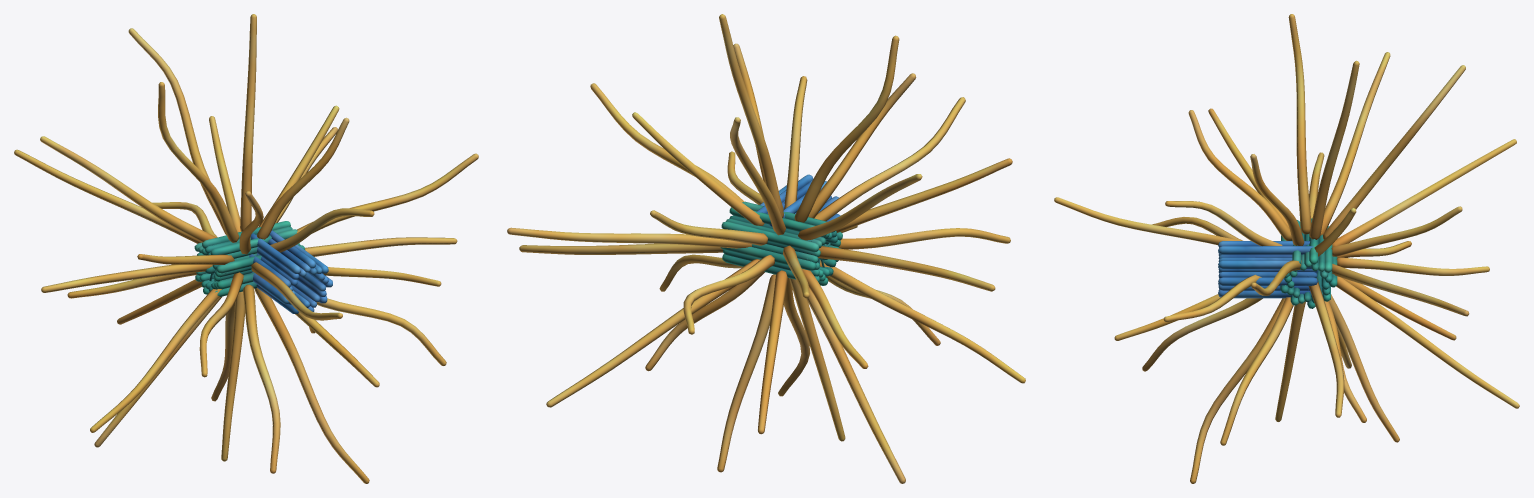
File: spindle-pole.glb
The picture shows the model from 3 angles, left to right: view 1: azimuth 30°, elevation 25°; view 2: azimuth 150°, elevation 25°; view 3: azimuth 270°, elevation 25°; orthographic projection. The views are drawn at different scales.
Visible parts, largest first — view 1: spindle-pole-aster, spindle-pole-daughter, spindle-pole-mother; view 2: spindle-pole-aster, spindle-pole-mother, spindle-pole-daughter; view 3: spindle-pole-aster, spindle-pole-daughter, spindle-pole-mother.
Boxes of the visible parts, <box> form: spindle-pole-aster: <box>14,14,478,483</box>; spindle-pole-daughter: <box>249,230,332,313</box>; spindle-pole-mother: <box>194,221,305,296</box>; spindle-pole-aster: <box>507,14,1025,483</box>; spindle-pole-mother: <box>720,201,842,285</box>; spindle-pole-daughter: <box>757,174,840,226</box>; spindle-pole-aster: <box>1054,14,1519,483</box>; spindle-pole-daughter: <box>1218,241,1318,298</box>; spindle-pole-mother: <box>1280,218,1337,308</box>.
Size of what is drawn, in the model's own units: 2.38 by 2.23 by 2.3.
